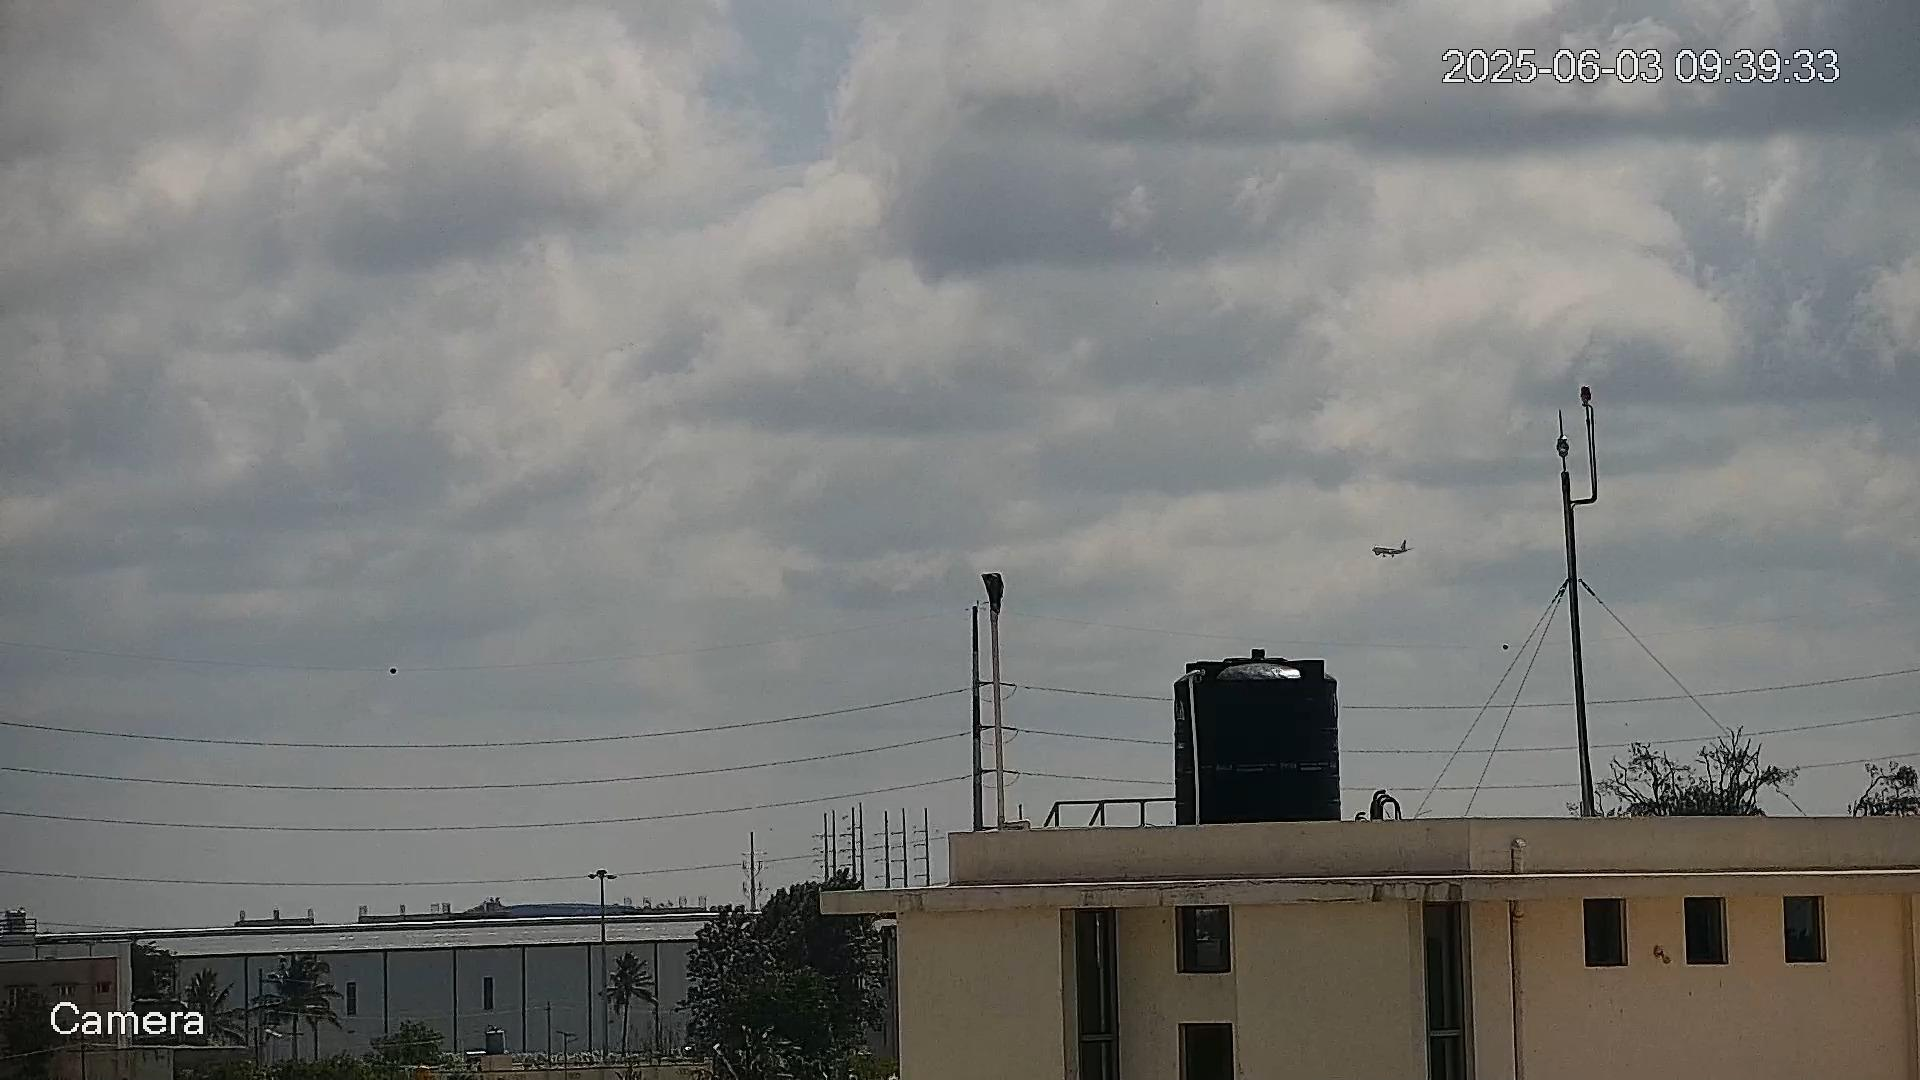Aircraft: (1370, 539, 1412, 558)
